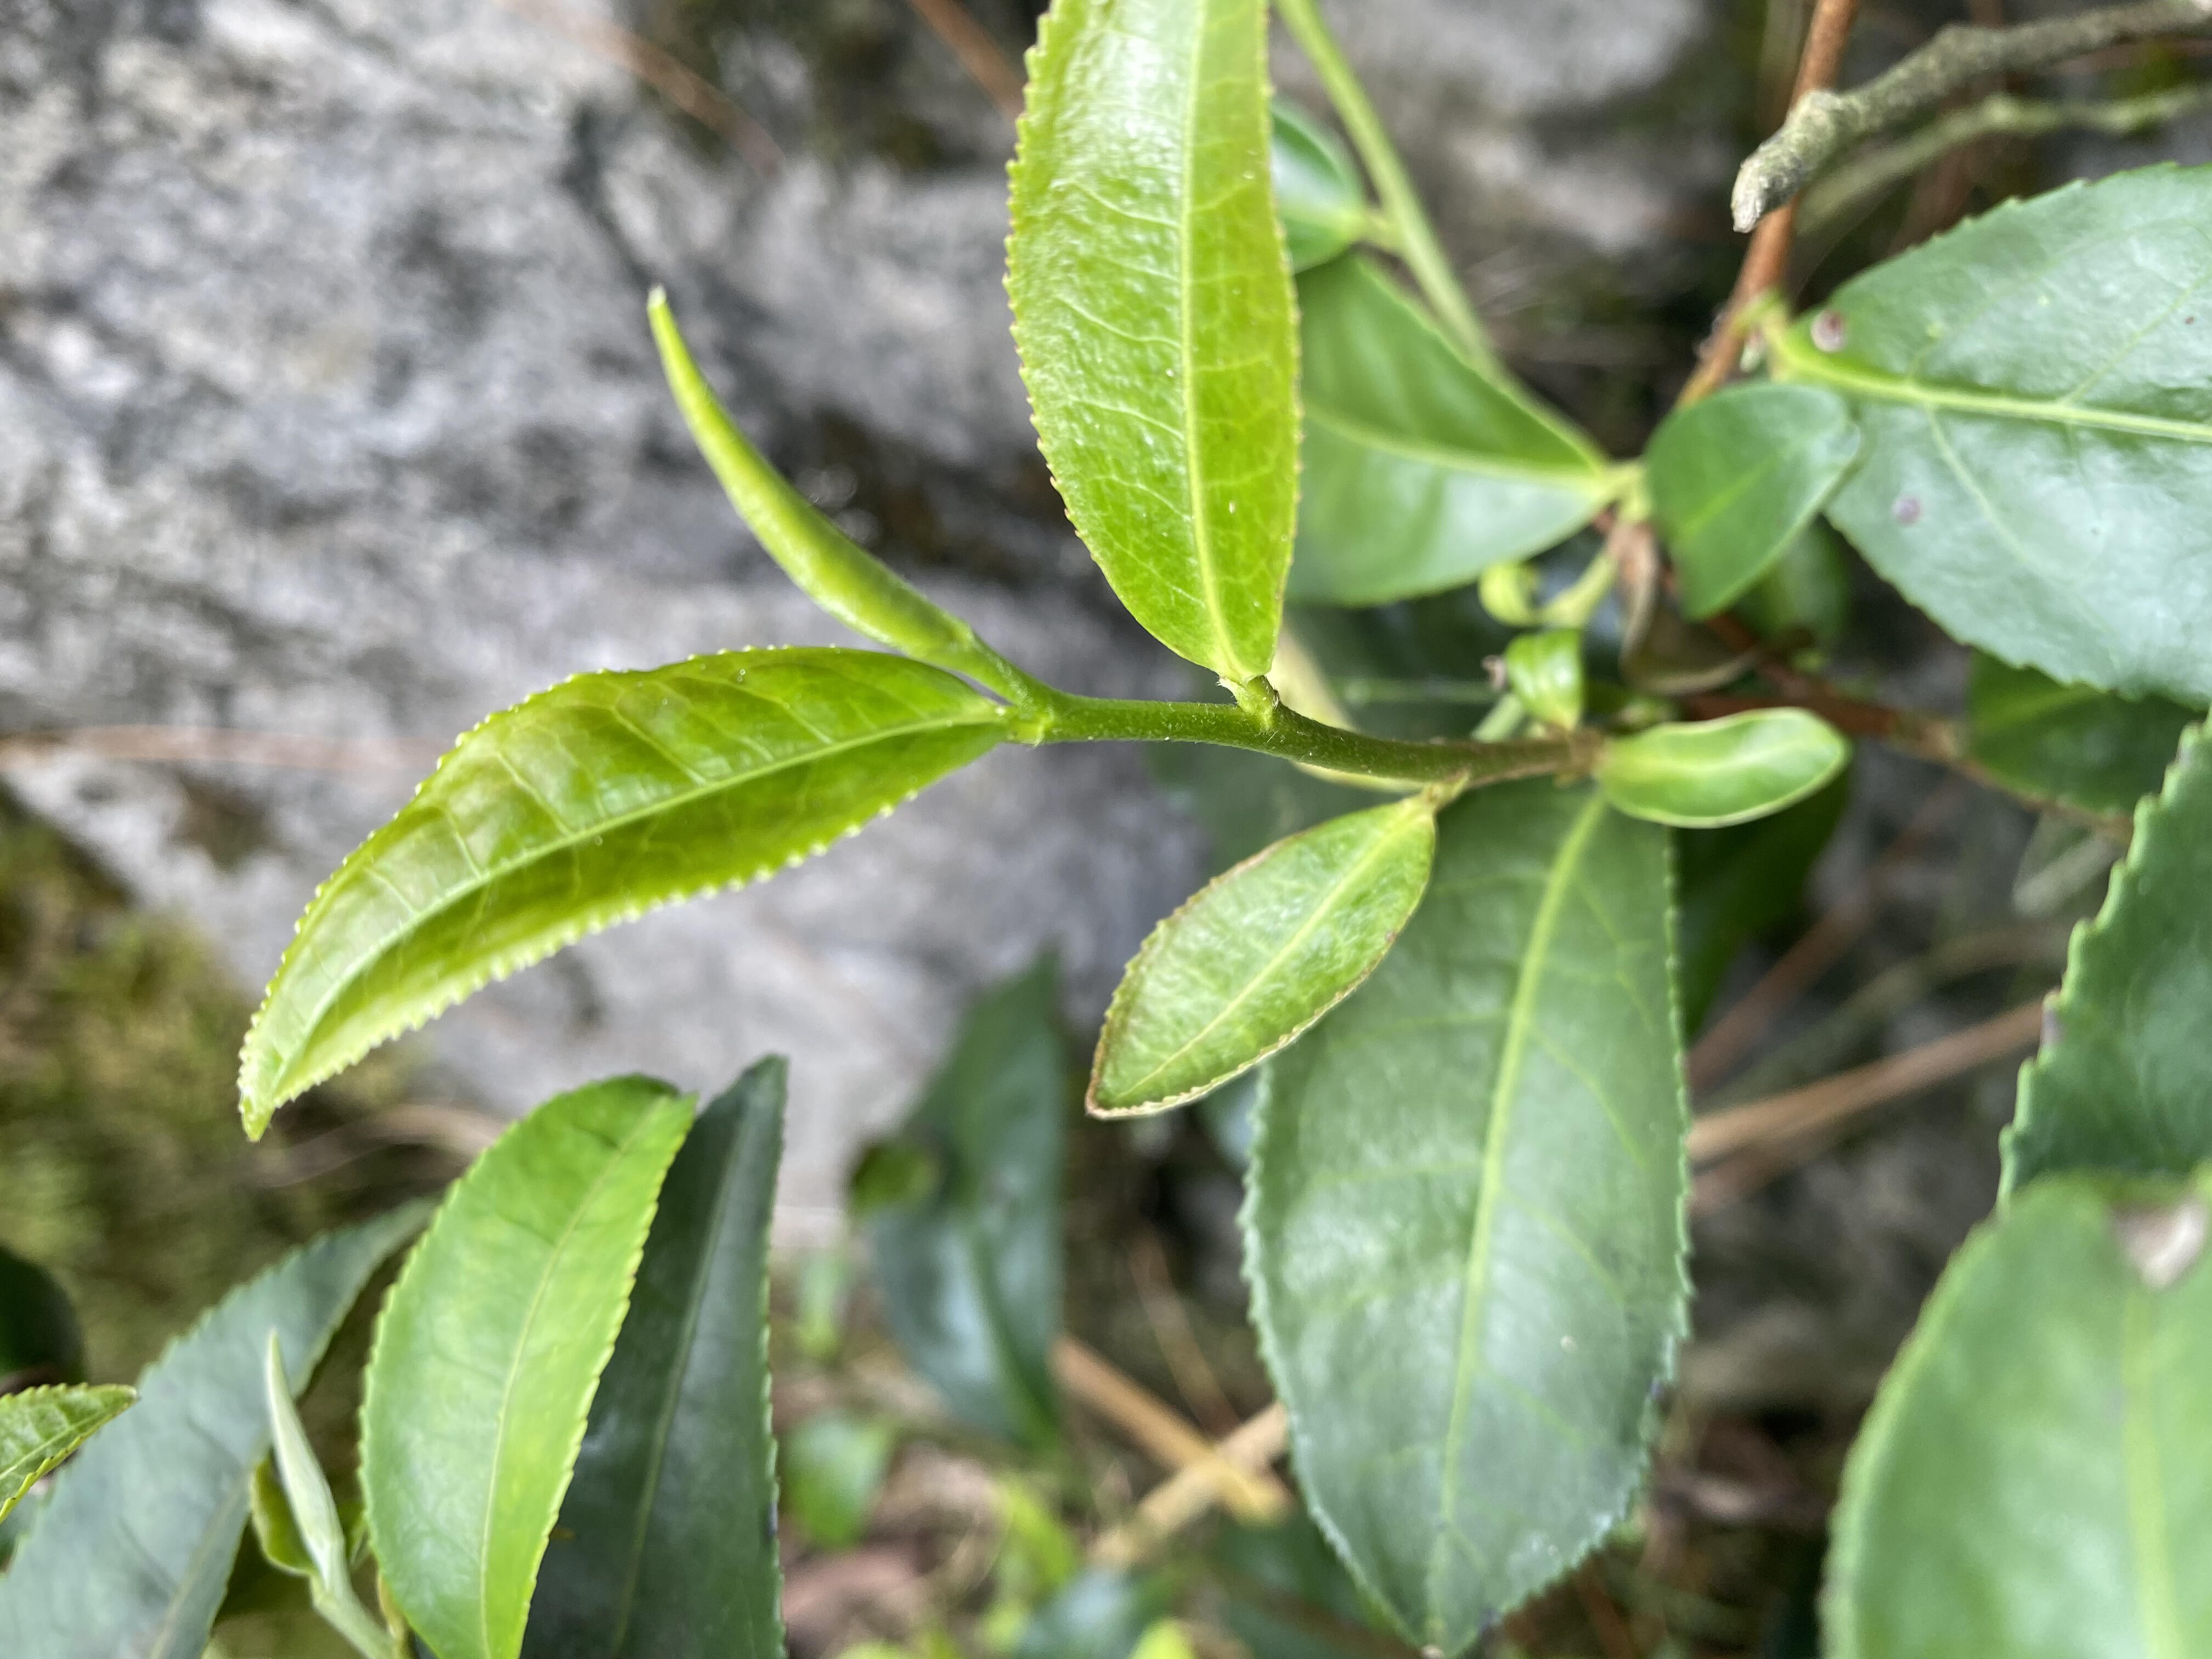healthy: (232, 641, 1007, 1148), (996, 2, 1303, 678), (352, 1072, 702, 1657)
tanju_low: (1082, 798, 1439, 1127)
